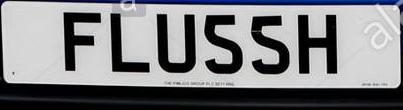F: (60, 10, 103, 73)
H: (296, 13, 339, 75)
L: (108, 12, 151, 74)
S: (250, 15, 292, 75), (204, 13, 245, 74)
U: (156, 12, 198, 73)
